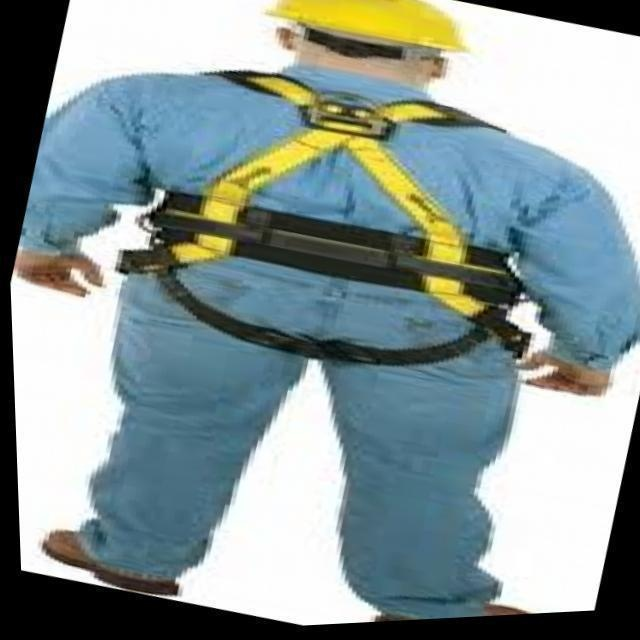Arnes_seguridad: (132, 70, 526, 331)
